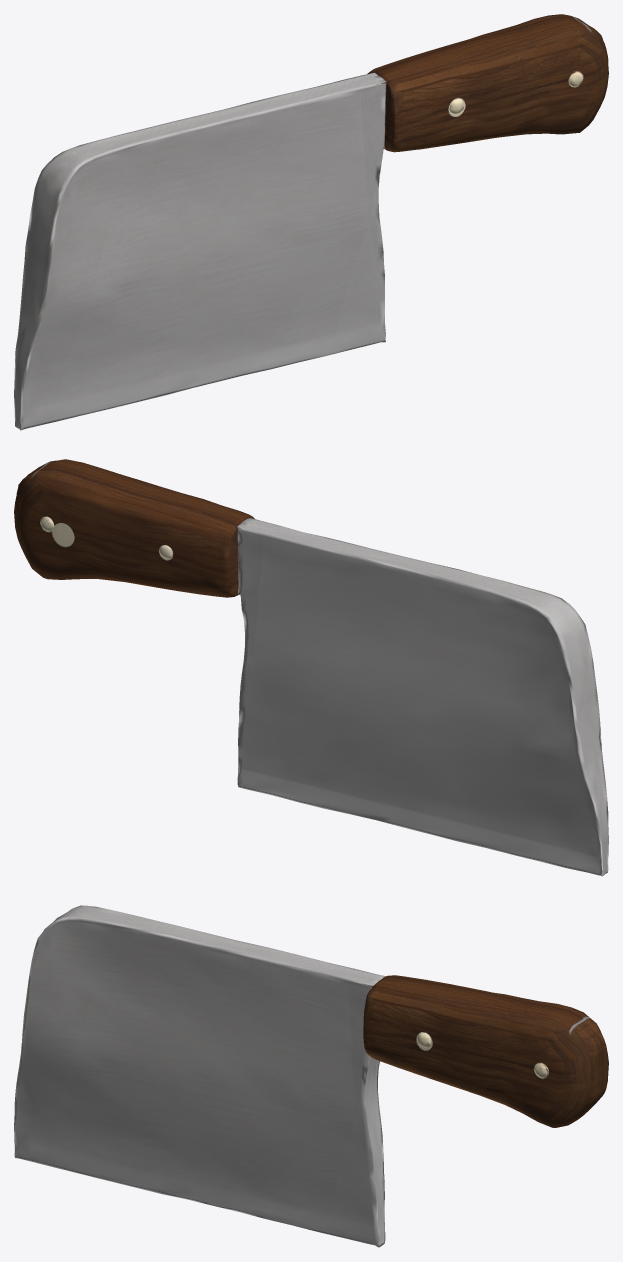
The picture shows the model from 3 angles, top to bottom: view 1: azimuth 30°, elevation 25°; view 2: azimuth 150°, elevation 25°; view 3: azimuth 330°, elevation 25°; orthographic projection.
Visible parts, largest first — view 1: Mesh_0; view 2: Mesh_0; view 3: Mesh_0.
Boxes of the visible parts, x1=… form: Mesh_0: x1=14, y1=14, x2=608, y2=430; Mesh_0: x1=14, y1=459, x2=608, y2=876; Mesh_0: x1=14, y1=905, x2=608, y2=1247.
Size of the model in its own units: 0.2206 by 0.1 by 0.0244.
Materials: 1 (1 with a texture image).
